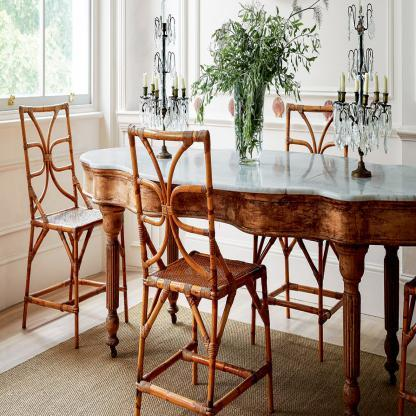chair: (125, 117, 266, 416), (254, 92, 360, 357), (9, 97, 99, 356)
light: (329, 0, 401, 183), (139, 14, 184, 160)
table: (70, 135, 416, 416)
